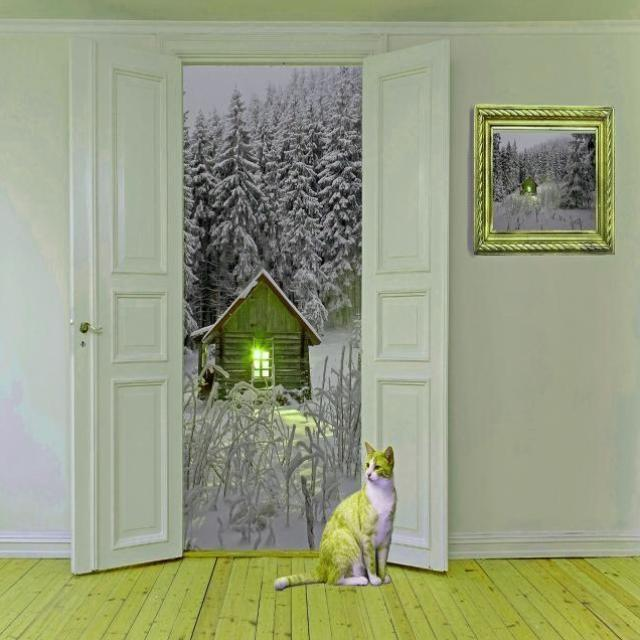door: (70, 34, 184, 574)
